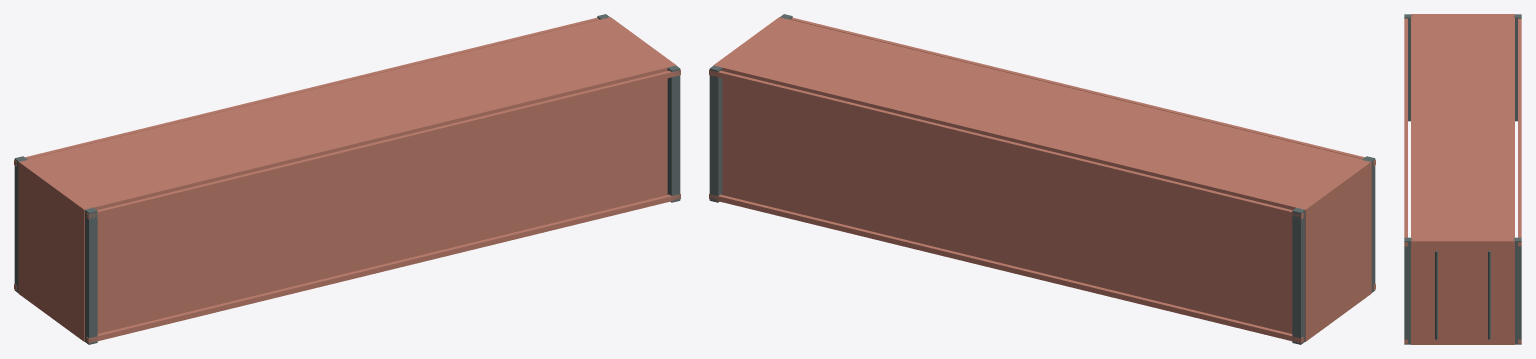
The picture shows the model from 3 angles, left to right: view 1: azimuth 30°, elevation 25°; view 2: azimuth 150°, elevation 25°; view 3: azimuth 270°, elevation 25°; orthographic projection. The views are drawn at different scales.
Size of the model in its own units: 12.36 by 2.6 by 2.66.
